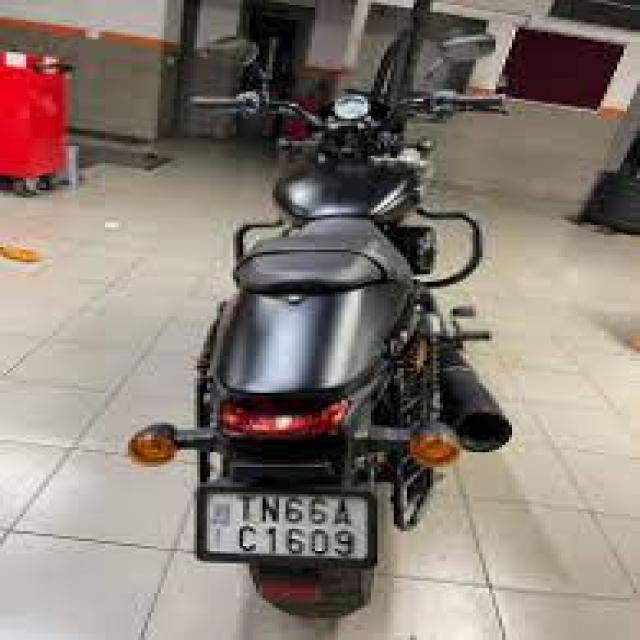number_plate: (129, 478, 449, 591)
